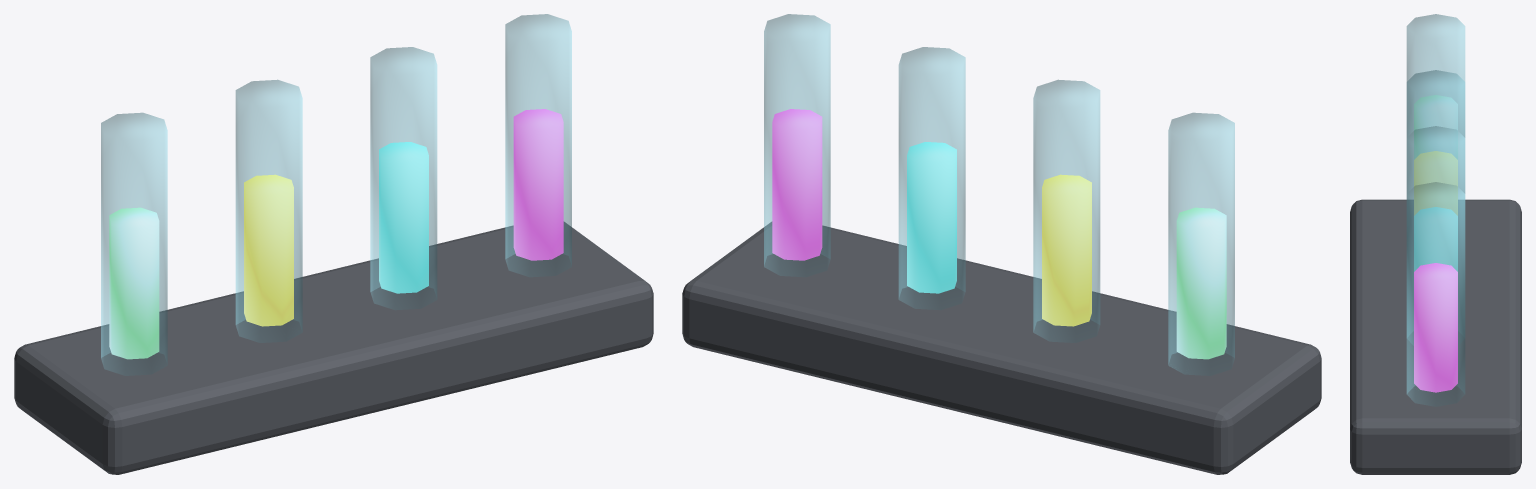
Rendered from vial_set_rack_of_four.glb.
The picture shows the model from 3 angles, left to right: view 1: azimuth 30°, elevation 25°; view 2: azimuth 150°, elevation 25°; view 3: azimuth 270°, elevation 25°; orthographic projection. The views are drawn at different scales.
Visible parts, largest first — view 1: GD_vial_set_rack_of_four__m0, GD_vial_set_rack_of_four__m1, GD_vial_set_rack_of_four__m2, GD_vial_set_rack_of_four__m5, GD_vial_set_rack_of_four__m3, GD_vial_set_rack_of_four__m4; view 2: GD_vial_set_rack_of_four__m0, GD_vial_set_rack_of_four__m1, GD_vial_set_rack_of_four__m2, GD_vial_set_rack_of_four__m5, GD_vial_set_rack_of_four__m3, GD_vial_set_rack_of_four__m4; view 3: GD_vial_set_rack_of_four__m0, GD_vial_set_rack_of_four__m1, GD_vial_set_rack_of_four__m5, GD_vial_set_rack_of_four__m4, GD_vial_set_rack_of_four__m2, GD_vial_set_rack_of_four__m3.
Part boxes in pixels (box(x1,y1,x2,y2)): GD_vial_set_rack_of_four__m0: box(14, 222, 653, 474); GD_vial_set_rack_of_four__m1: box(101, 14, 571, 375); GD_vial_set_rack_of_four__m2: box(109, 207, 159, 359); GD_vial_set_rack_of_four__m5: box(513, 109, 563, 260); GD_vial_set_rack_of_four__m3: box(244, 174, 293, 326); GD_vial_set_rack_of_four__m4: box(379, 142, 428, 293); GD_vial_set_rack_of_four__m0: box(682, 222, 1321, 474); GD_vial_set_rack_of_four__m1: box(764, 14, 1234, 375); GD_vial_set_rack_of_four__m2: box(1176, 207, 1226, 359); GD_vial_set_rack_of_four__m5: box(772, 109, 822, 260); GD_vial_set_rack_of_four__m3: box(1042, 174, 1091, 326); GD_vial_set_rack_of_four__m4: box(907, 142, 956, 293); GD_vial_set_rack_of_four__m0: box(1350, 199, 1521, 474); GD_vial_set_rack_of_four__m1: box(1406, 14, 1465, 406); GD_vial_set_rack_of_four__m5: box(1414, 263, 1457, 392); GD_vial_set_rack_of_four__m4: box(1414, 207, 1457, 271); GD_vial_set_rack_of_four__m2: box(1414, 95, 1457, 159); GD_vial_set_rack_of_four__m3: box(1414, 151, 1457, 215).
Bounding box in the file's own units: 0.22 × 0.115 × 0.07.
